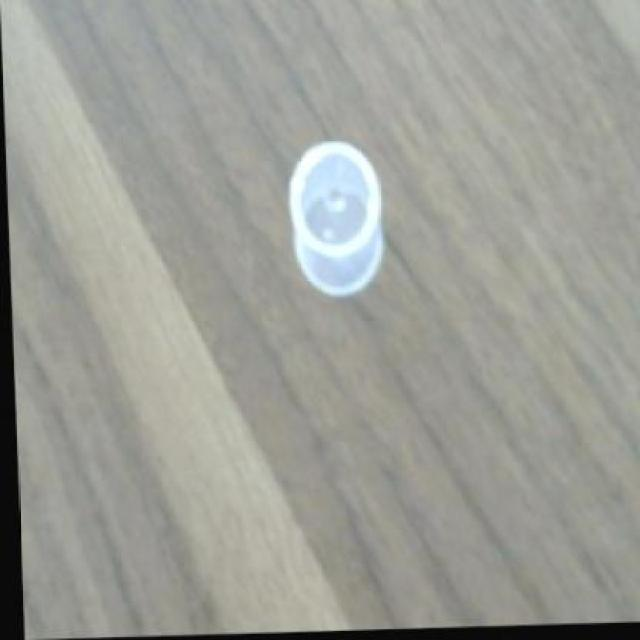Plastic: (283, 137, 397, 303)
